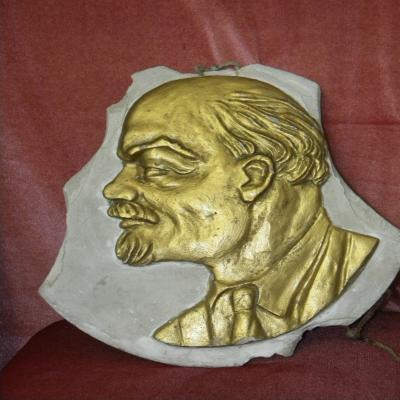sculpture: (100, 72, 380, 350)
